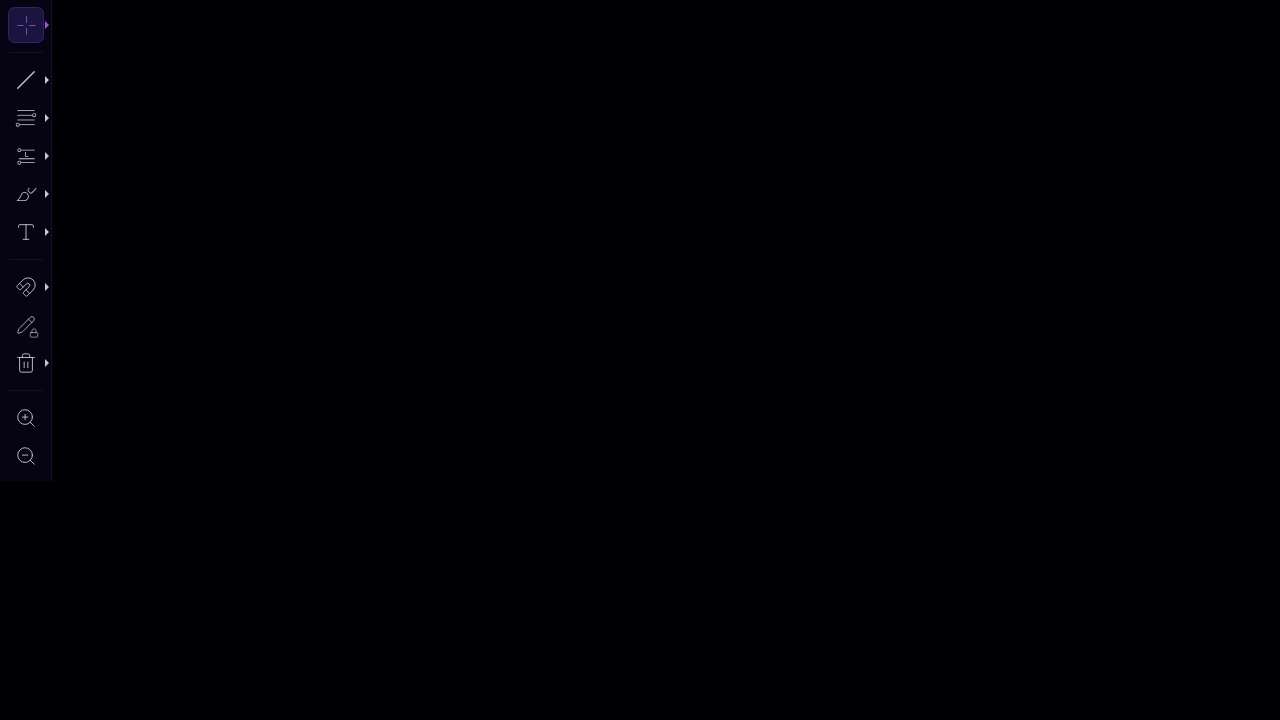
LeftToolbar — Remove › [10.7.17] should cancel the confirm with Escape
Click the button named "Remove drawings" at coordinates (26, 363), box top-left (8, 346), bottom-right (42, 380)
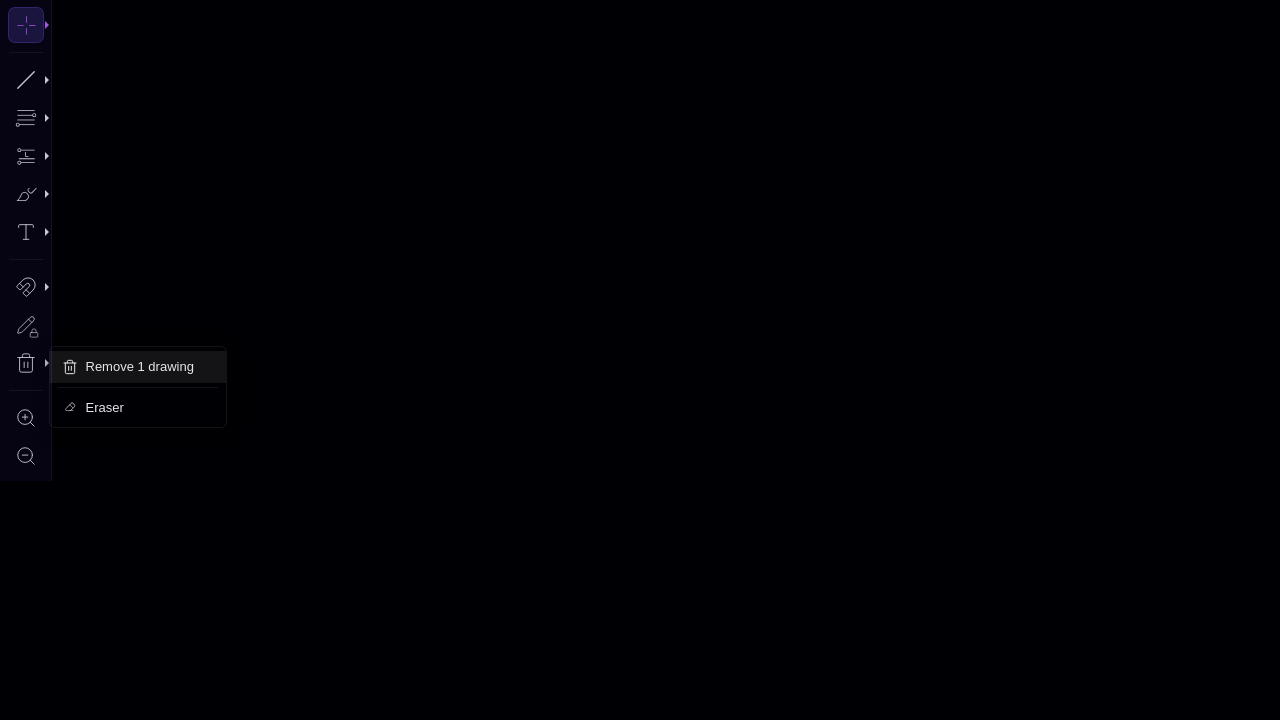
Click the menu item "Remove 1 drawing" at coordinates (138, 367), box top-left (50, 351), bottom-right (226, 382)
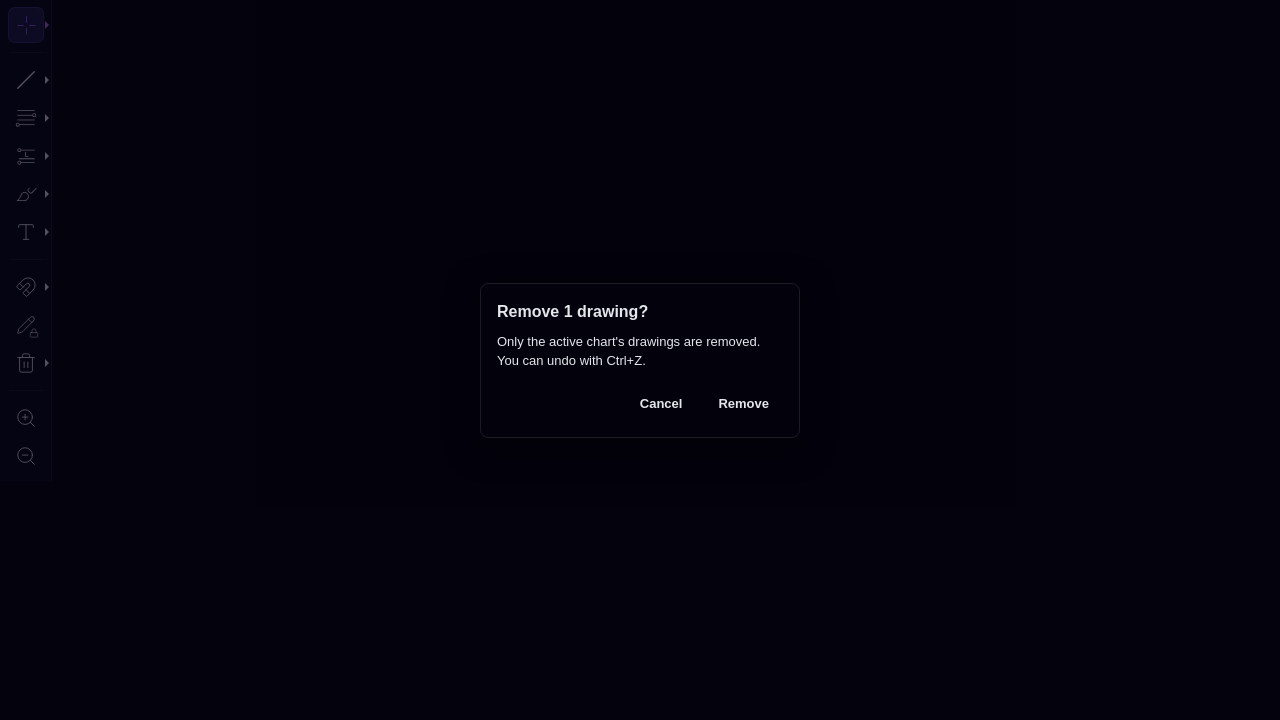
Press Escape in the dialog, box top-left (480, 282), bottom-right (800, 438)
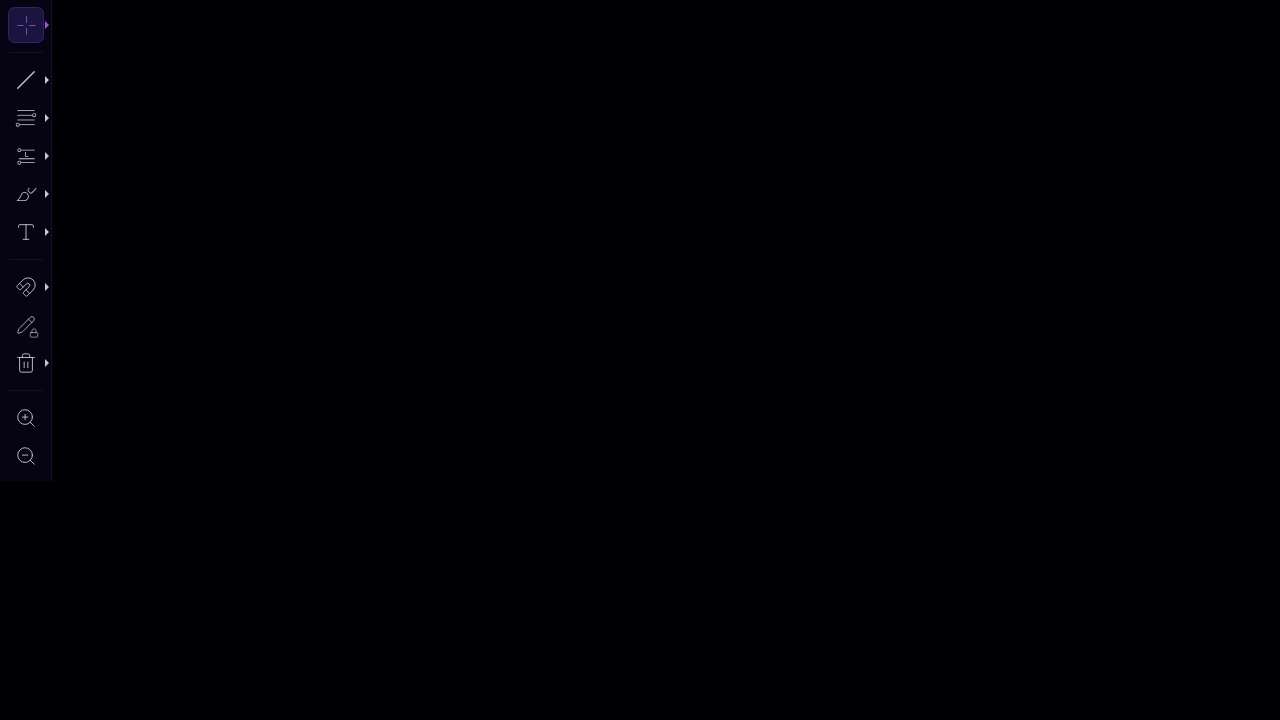
Expected: the dialog is gone
